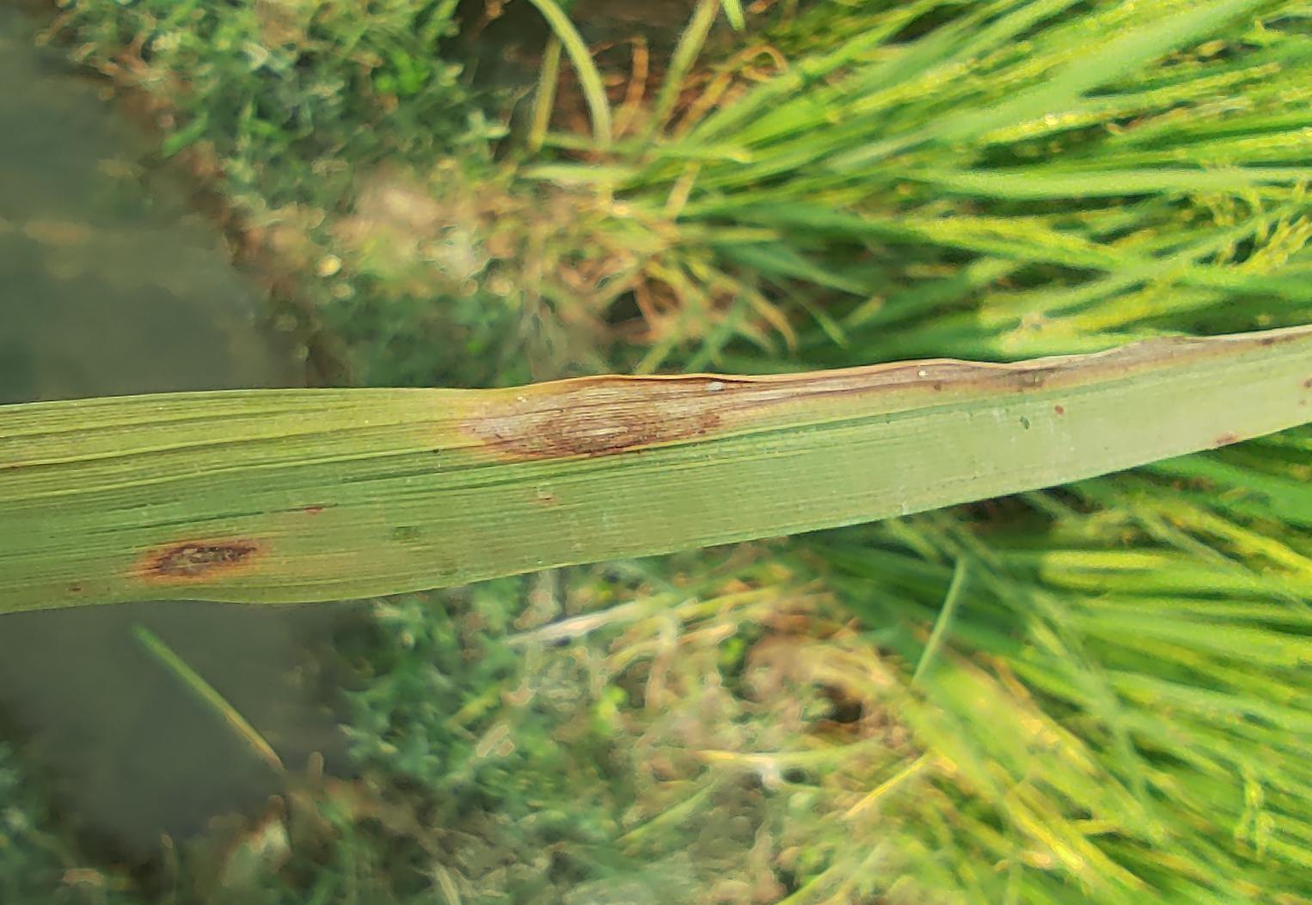LEAF: (0, 325, 1311, 613)
LEAF BLAST: (460, 329, 1310, 459), (152, 541, 255, 575)
